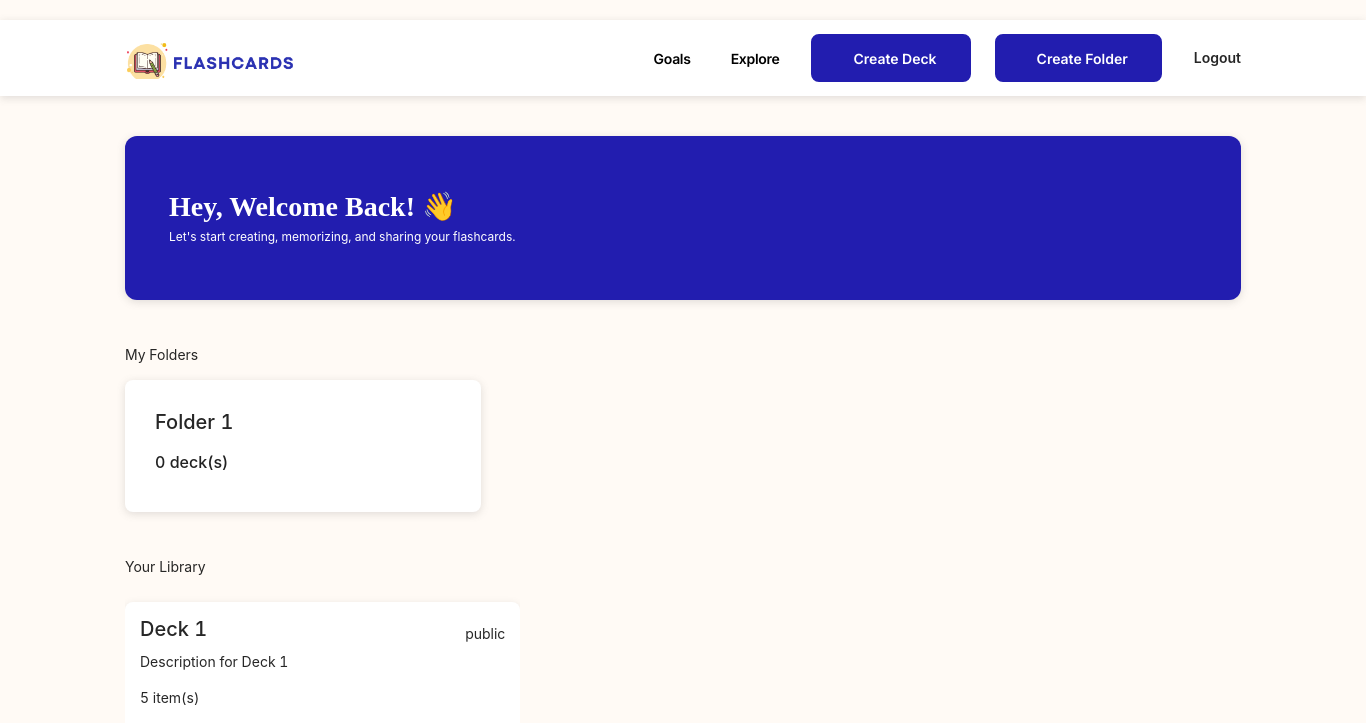
Test case: Dashboard Component › opens folder modal when folder is clicked
The width and height of the screenshot is (1366, 723).
Click the folder to open the modal
What coordinates should you click on to do the following:
click the heading "Folder 1"
I would click on:
 (194, 422)
Its box is [155,410,233,434].
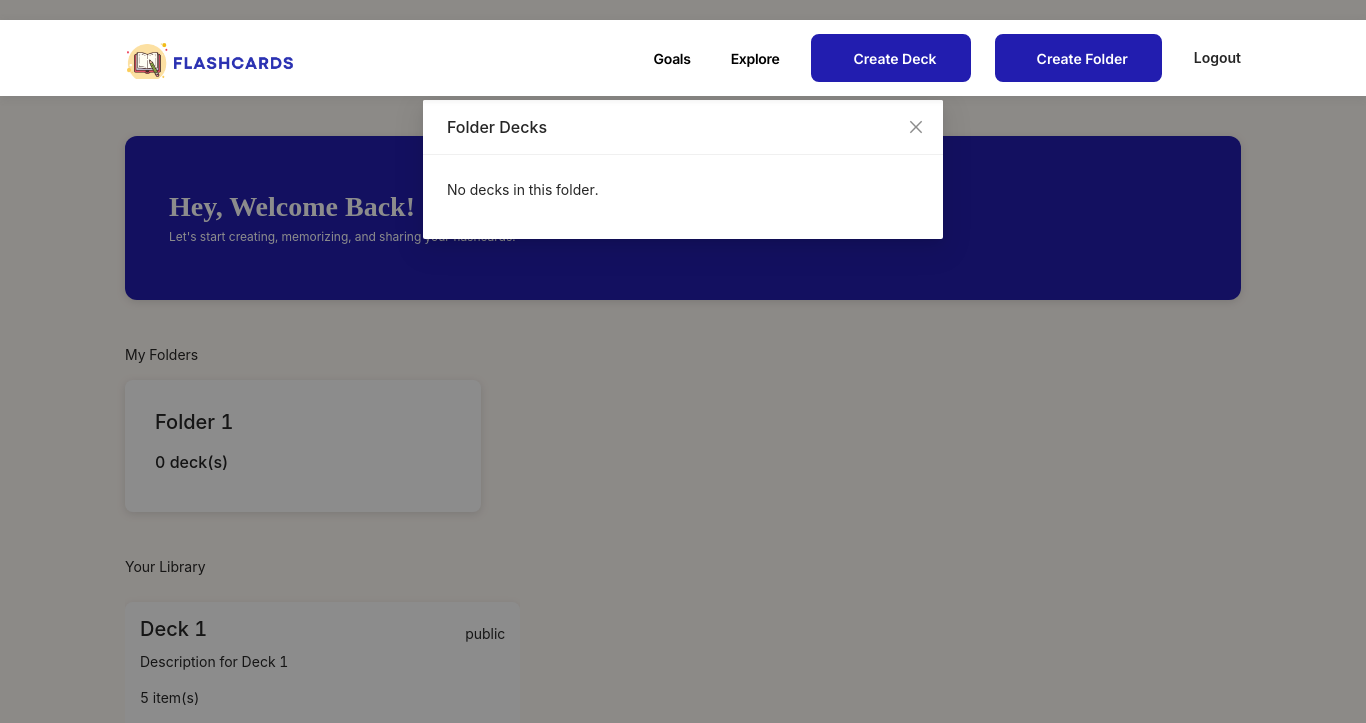
Expected: the text "Folder Decks" is shown, [447,117,547,137]
Expected: the text "No decks in this folder." is shown, [447,181,598,198]
